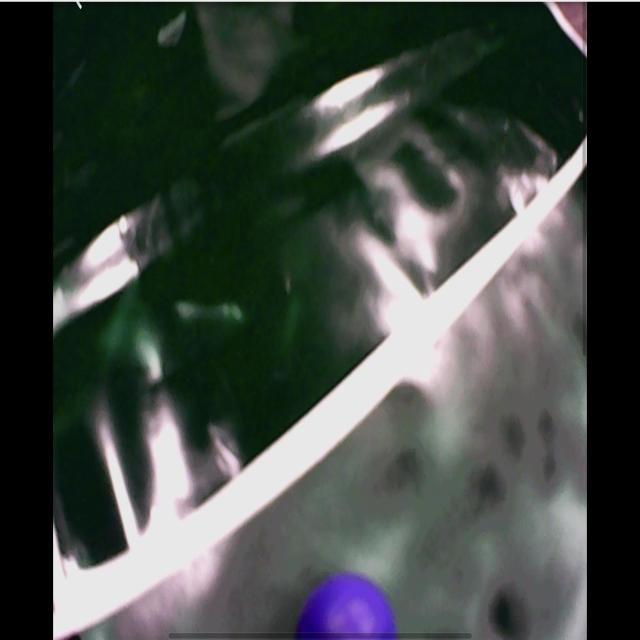ball: (295, 576, 398, 639)
